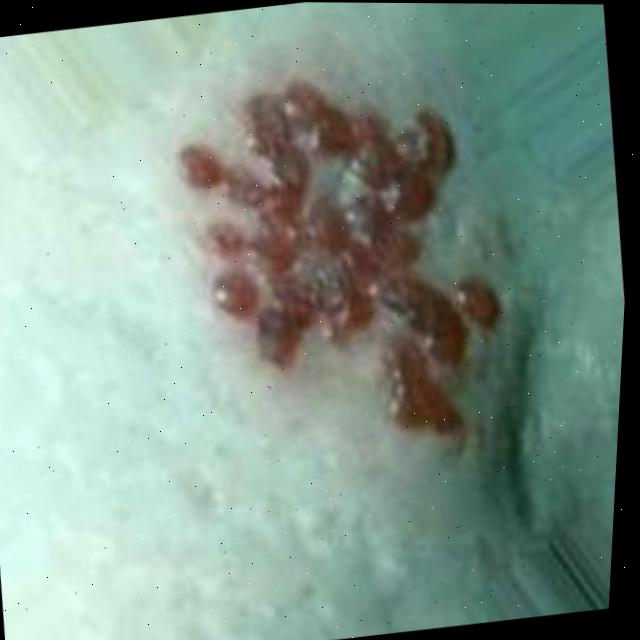Shingles: (151, 51, 535, 465)
